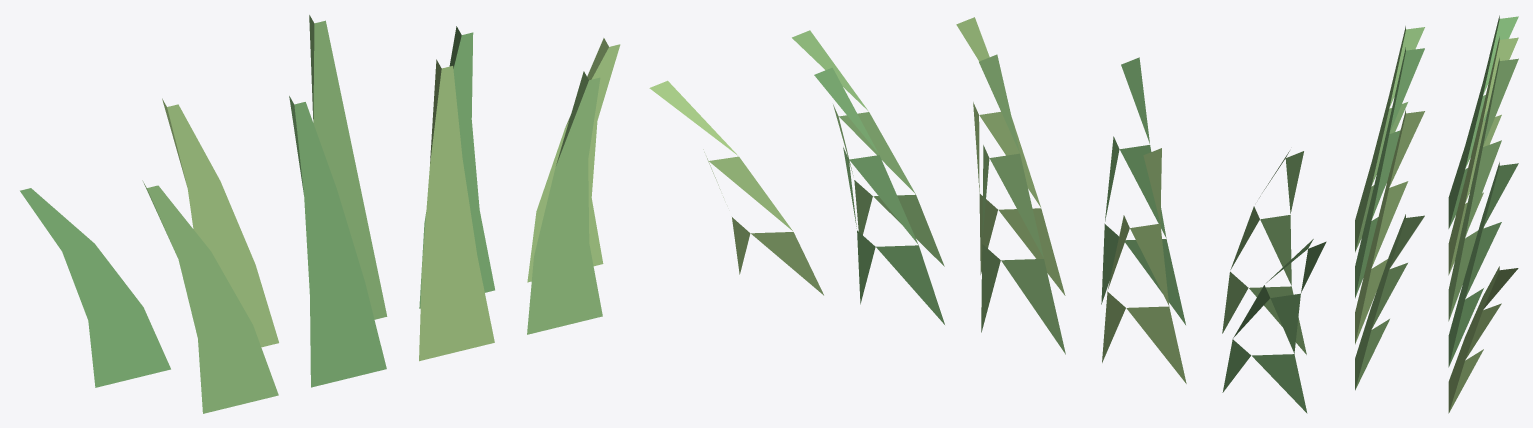
File: grass_tuft_b.glb
3 views of the same model, side by side, from view 1: azimuth 30°, elevation 25°; view 2: azimuth 150°, elevation 25°; view 3: azimuth 270°, elevation 25° (orthographic). The views are drawn at different scales.
Parts seen in each view (by area): view 1: grass_tuft_b_05_blade, grass_tuft_b_03_blade, grass_tuft_b_07_blade, grass_tuft_b_01_blade, grass_tuft_b_00_blade, grass_tuft_b_02_blade, grass_tuft_b_04_blade, grass_tuft_b_06_blade, grass_tuft_b_08_blade; view 2: grass_tuft_b_04_blade, grass_tuft_b_06_blade, grass_tuft_b_02_blade, grass_tuft_b_05_blade, grass_tuft_b_08_blade, grass_tuft_b_03_blade, grass_tuft_b_07_blade, grass_tuft_b_00_blade, grass_tuft_b_01_blade; view 3: grass_tuft_b_04_blade, grass_tuft_b_05_blade, grass_tuft_b_06_blade, grass_tuft_b_03_blade, grass_tuft_b_07_blade, grass_tuft_b_08_blade, grass_tuft_b_02_blade, grass_tuft_b_01_blade, grass_tuft_b_00_blade.
Boxes of the visible parts, box(x1,y1,x2,y2) form: grass_tuft_b_05_blade: box(419, 59, 494, 361); grass_tuft_b_03_blade: box(289, 96, 386, 387); grass_tuft_b_07_blade: box(527, 71, 602, 334); grass_tuft_b_01_blade: box(142, 180, 278, 413); grass_tuft_b_00_blade: box(20, 188, 170, 387); grass_tuft_b_02_blade: box(162, 98, 278, 347); grass_tuft_b_04_blade: box(309, 15, 387, 319); grass_tuft_b_06_blade: box(419, 26, 494, 308); grass_tuft_b_08_blade: box(527, 38, 620, 282); grass_tuft_b_04_blade: box(979, 54, 1065, 354); grass_tuft_b_06_blade: box(814, 67, 944, 324); grass_tuft_b_02_blade: box(1102, 148, 1186, 383); grass_tuft_b_05_blade: box(956, 17, 1065, 295); grass_tuft_b_08_blade: box(649, 80, 823, 295); grass_tuft_b_03_blade: box(1101, 57, 1185, 324); grass_tuft_b_07_blade: box(792, 30, 944, 266); grass_tuft_b_00_blade: box(1222, 239, 1326, 413); grass_tuft_b_01_blade: box(1222, 151, 1306, 354); grass_tuft_b_04_blade: box(1448, 58, 1518, 321); grass_tuft_b_05_blade: box(1355, 110, 1424, 344); grass_tuft_b_06_blade: box(1448, 162, 1518, 367); grass_tuft_b_03_blade: box(1355, 47, 1424, 298); grass_tuft_b_07_blade: box(1355, 214, 1424, 390); grass_tuft_b_08_blade: box(1448, 266, 1518, 413); grass_tuft_b_02_blade: box(1448, 36, 1518, 275); grass_tuft_b_01_blade: box(1355, 26, 1424, 252); grass_tuft_b_00_blade: box(1448, 15, 1518, 228).
Size of the model in its own units: 1.42 by 0.64 by 0.385.
